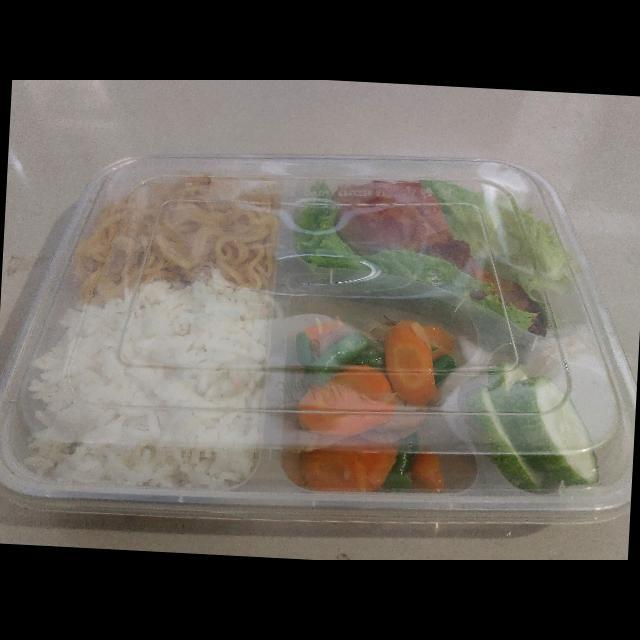bento: (0, 156, 637, 526)
